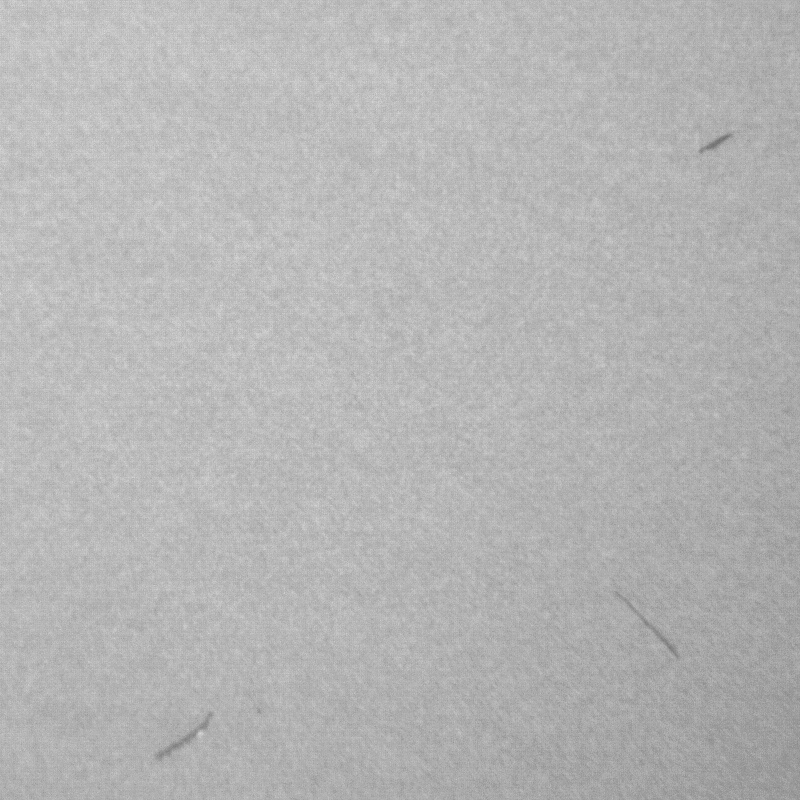defect: (616, 595, 682, 663), (150, 711, 207, 770), (691, 132, 730, 157)
